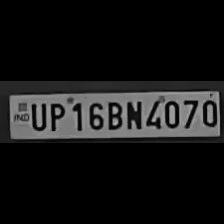0: (199, 97, 219, 127), (162, 98, 180, 128)
1: (66, 100, 84, 132)
4: (144, 97, 160, 129)
6: (85, 99, 103, 130)
7: (180, 97, 198, 128)
B: (104, 98, 122, 130)
N: (124, 98, 142, 130)
P: (46, 100, 66, 132)
U: (28, 100, 46, 130)
